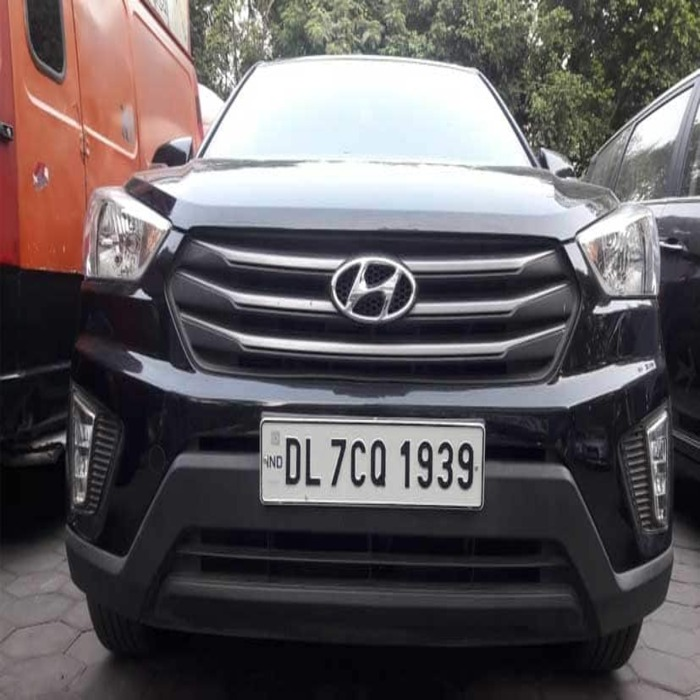n: (260, 425, 482, 503)
